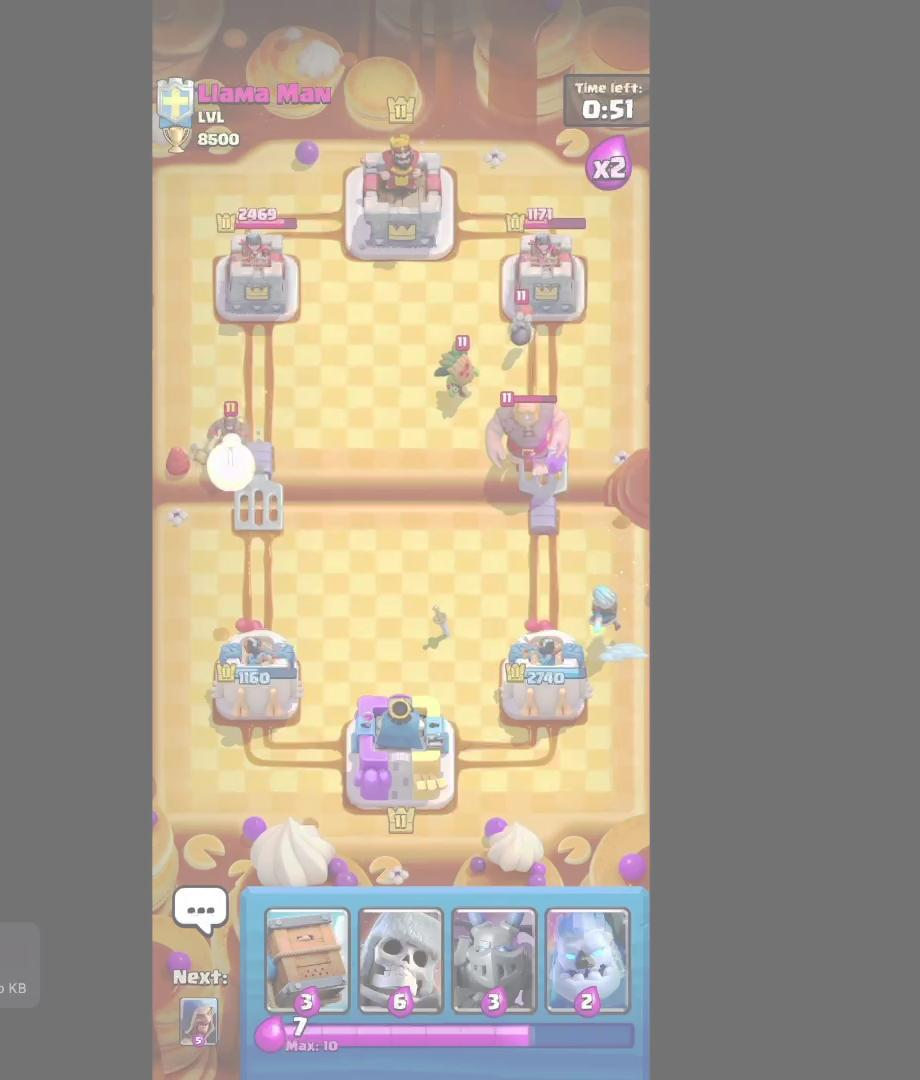Bomber: (494, 281, 545, 352)
Dart Goblin: (432, 329, 479, 400)
Giant: (484, 387, 583, 489)
Hog Rider: (200, 393, 265, 488)
